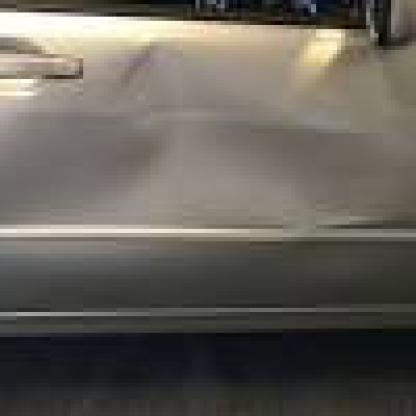dent: (121, 35, 179, 106)
